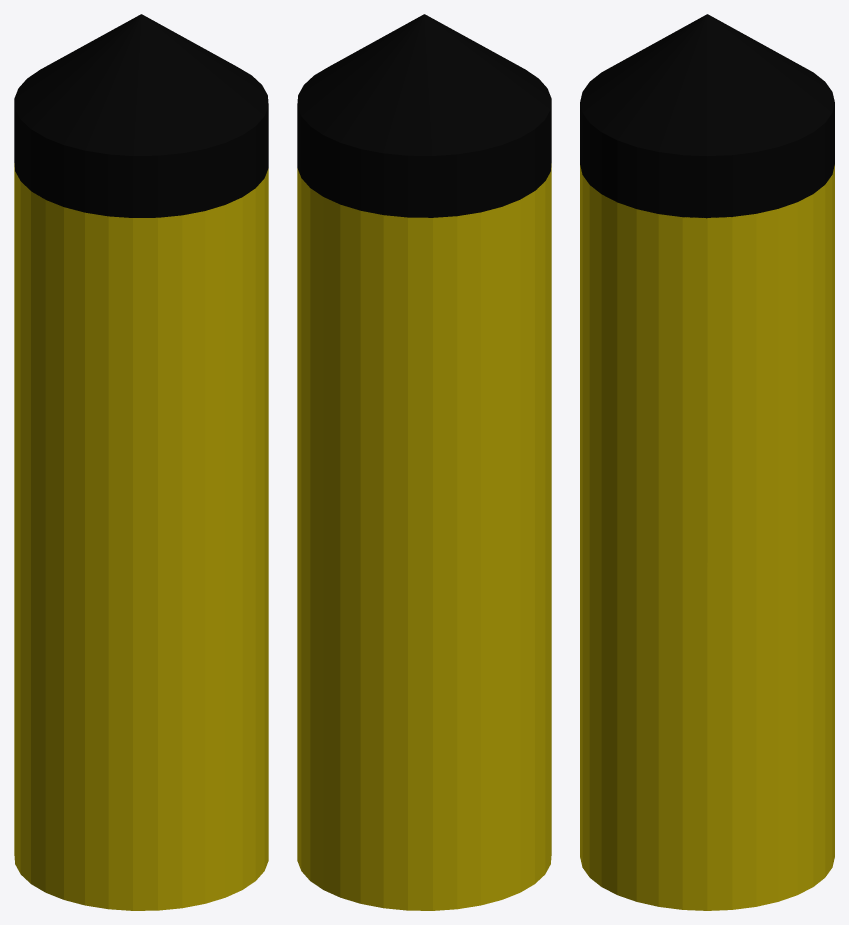
Rendered from Shell.fbx.
3 views of the same model, side by side, from view 1: azimuth 30°, elevation 25°; view 2: azimuth 150°, elevation 25°; view 3: azimuth 270°, elevation 25° (orthographic).
Visible parts, largest first — view 1: Cylinder, Cone; view 2: Cylinder, Cone; view 3: Cylinder, Cone.
Part boxes in pixels (x1,y1,x2,y2): Cylinder: (14,163,268,910); Cone: (14,14,268,217); Cylinder: (297,163,551,910); Cone: (297,14,551,217); Cylinder: (580,165,834,910); Cone: (580,14,834,218).
Size of the model in its own units: 200 by 730 by 200.
